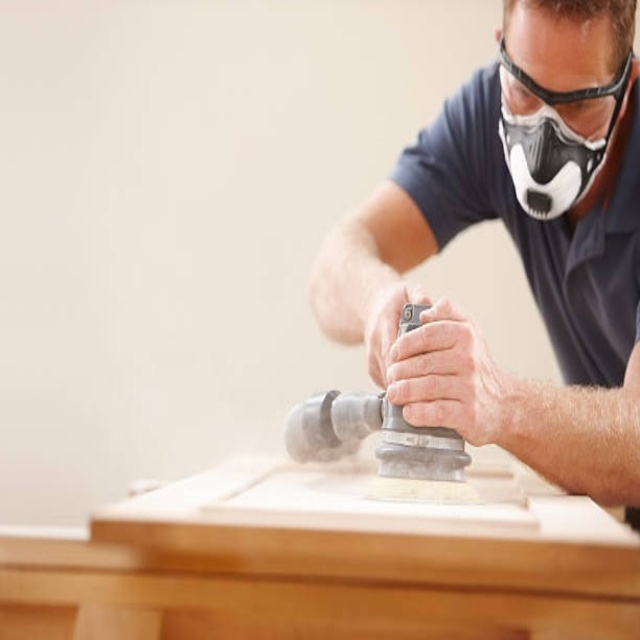Gafas: (499, 31, 632, 135)
Mascara: (499, 104, 614, 221)
Sin_guantes: (384, 295, 507, 447)
